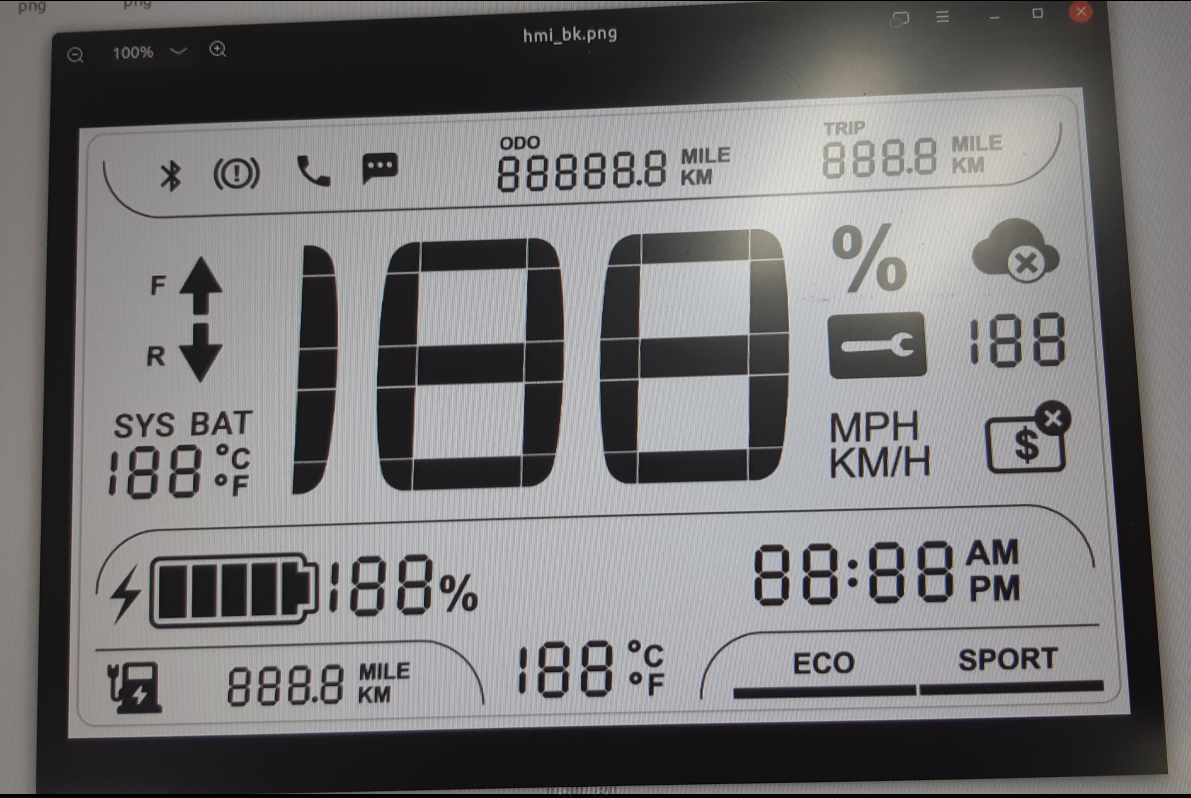bluetooth_on: (157, 157, 184, 194)
braking_on: (210, 153, 264, 194)
calling_on: (294, 152, 334, 189)
connection_lost: (969, 215, 1063, 286)
error_code: (825, 309, 931, 382)
low_battery: (104, 657, 166, 717)
sms_on: (358, 149, 402, 190)
vin_id: (982, 397, 1073, 476)
